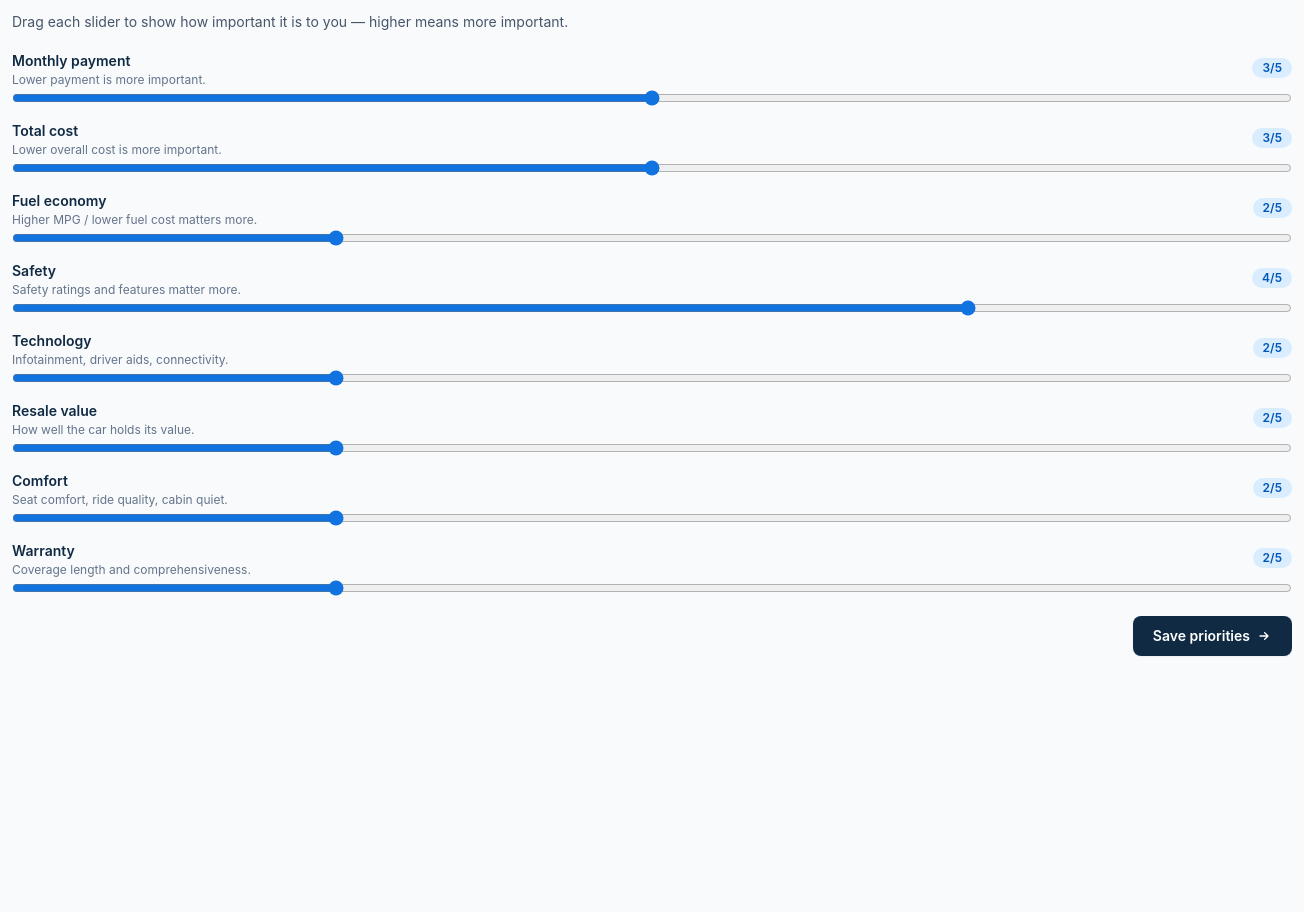
Test: PriorityRanker › updates slider value in real time
Set the slider labelled "Safety" to "5" at (1284, 308), box x1=12 y1=304 x2=1292 y2=312
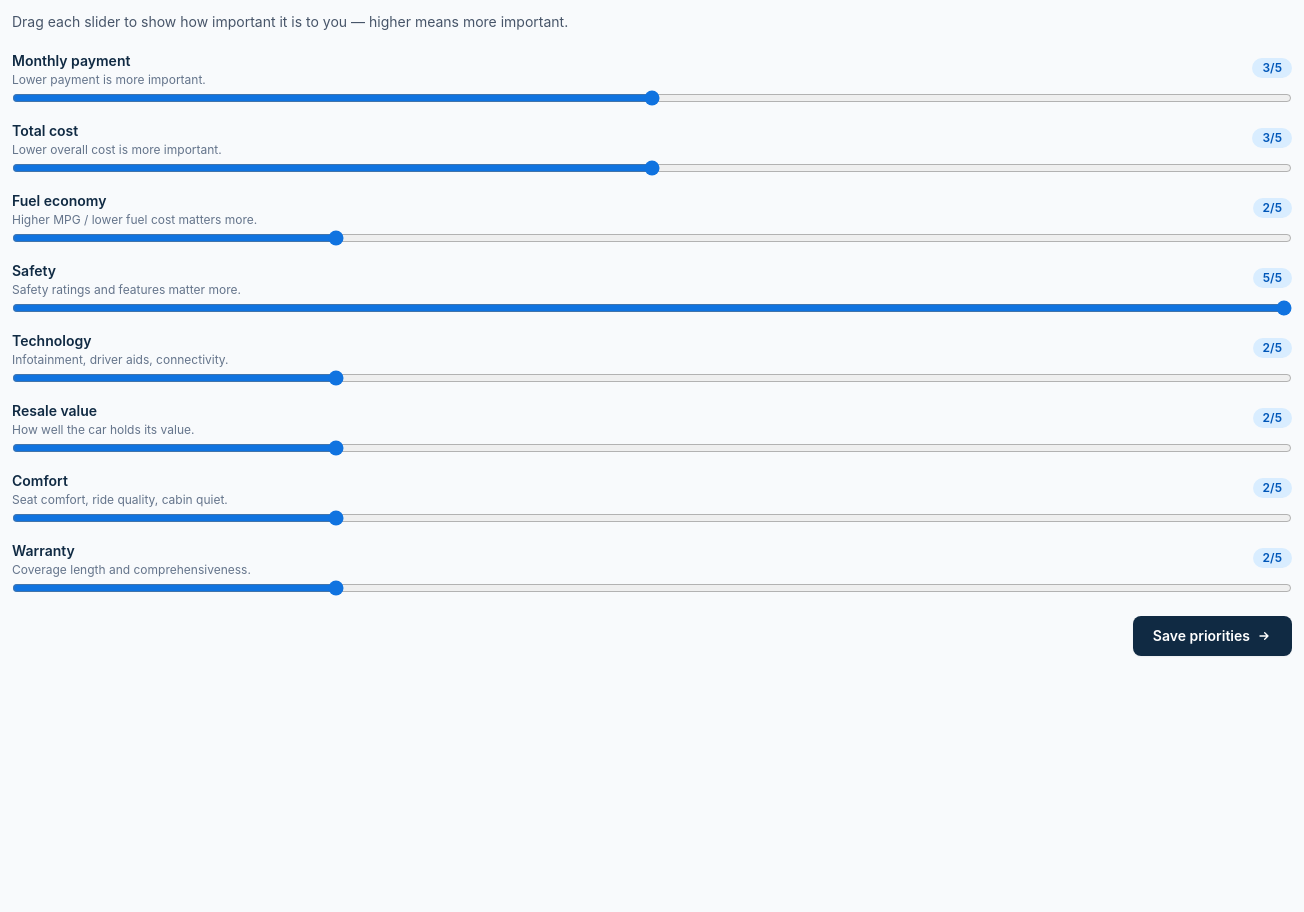
Now the text "5/5" is shown, box x1=1253 y1=268 x2=1292 y2=288
